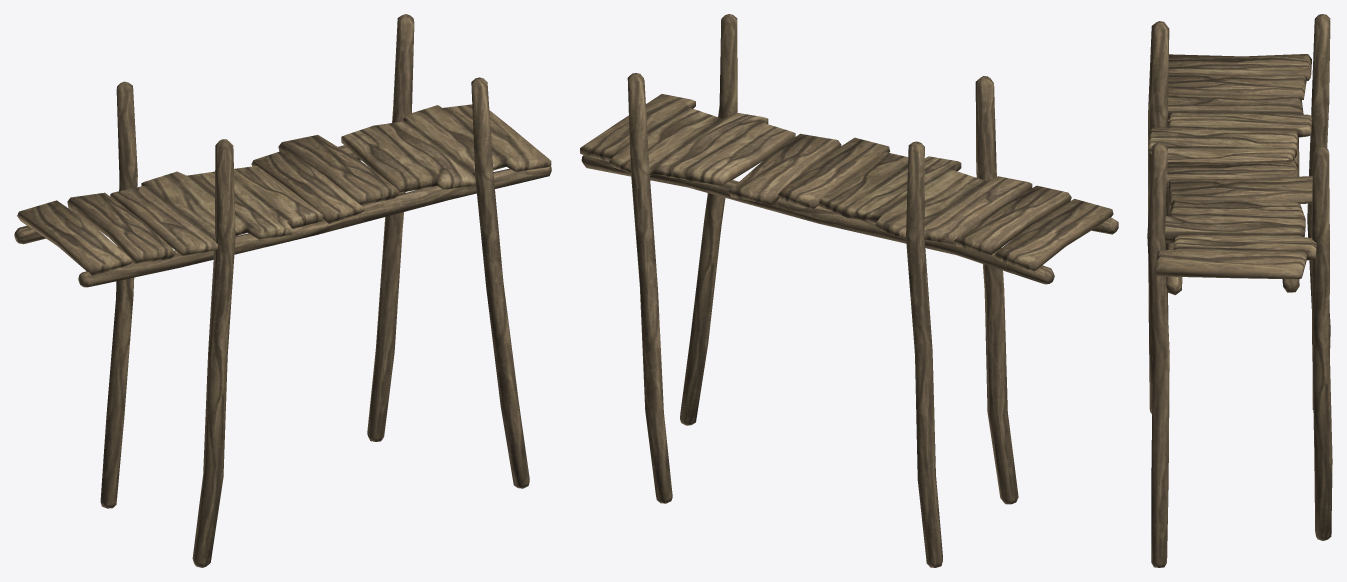
Rendered from beach ramp suspended.FBX.
The picture shows the model from 3 angles, left to right: view 1: azimuth 30°, elevation 25°; view 2: azimuth 150°, elevation 25°; view 3: azimuth 270°, elevation 25°; orthographic projection. The views are drawn at different scales.
Parts seen in each view (by area): view 1: beach ramp suspended; view 2: beach ramp suspended; view 3: beach ramp suspended.
Part boxes in pixels (left/top/right/bottom): beach ramp suspended: left=14, top=14, right=551, bottom=567; beach ramp suspended: left=580, top=14, right=1118, bottom=567; beach ramp suspended: left=1147, top=14, right=1332, bottom=567.
Size of the model in its own units: 5.45 by 4.64 by 1.92.
